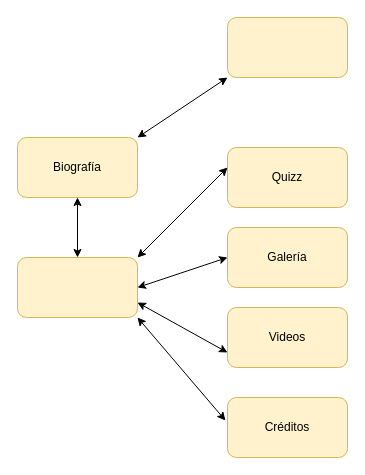
The diagram is 365 pixels wide and 475 high, and some of its shapes have lost their labels. The centre of each missing label's shape, as x and y in pixels:
Menú: point (77, 287)
Portada: point (287, 47)
